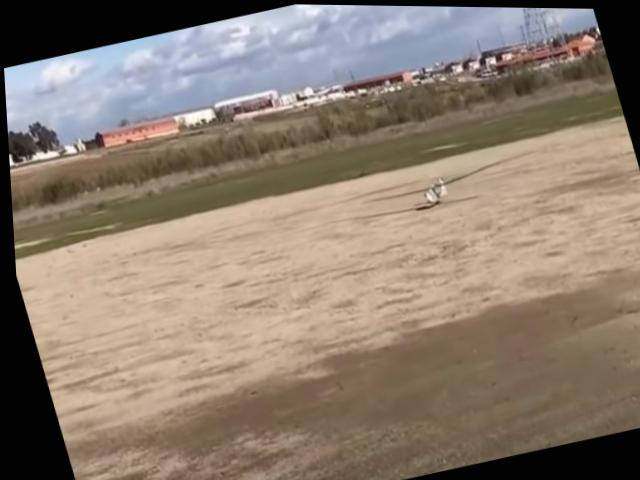iha: (348, 142, 522, 217)
